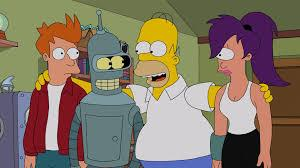Homer: (125, 9, 223, 168)
